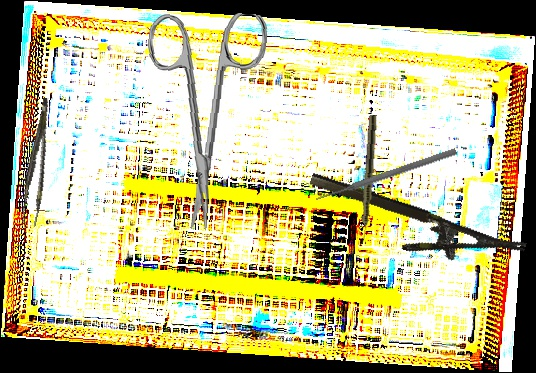Handpiece: (358, 114, 378, 246)
Iris Scissors: (135, 7, 269, 233)
Needle Holder: (299, 170, 527, 287)
Pusher: (314, 146, 458, 204)
Tissue Forceps: (14, 97, 65, 227)
